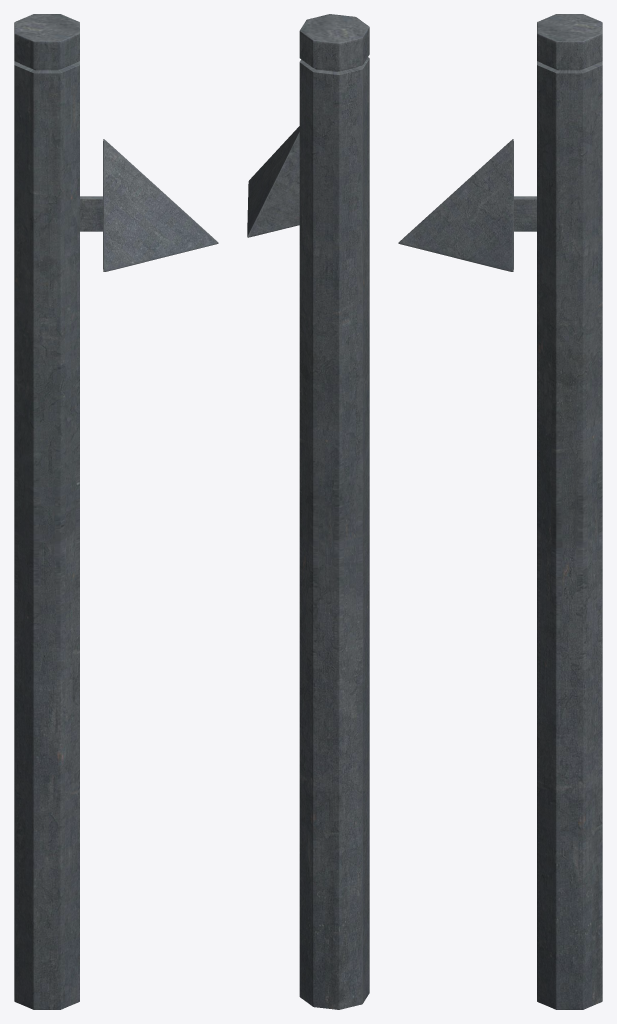
Rendered from slight.gltf.
The picture shows the model from 3 angles, left to right: view 1: azimuth 90°, elevation 25°; view 2: azimuth 210°, elevation 25°; view 3: azimuth 270°, elevation 25°; orthographic projection.
Visible parts, largest first — view 1: 10569_Streetlight1_v2-L3; view 2: 10569_Streetlight1_v2-L3; view 3: 10569_Streetlight1_v2-L3.
Part boxes in pixels (x1,y1,x2,y2): 10569_Streetlight1_v2-L3: (14, 14, 218, 1009); 10569_Streetlight1_v2-L3: (247, 14, 369, 1009); 10569_Streetlight1_v2-L3: (398, 14, 602, 1009).
Size of the model in its own units: 51.11 by 401 by 76.68.
1 material, 1 textured.
